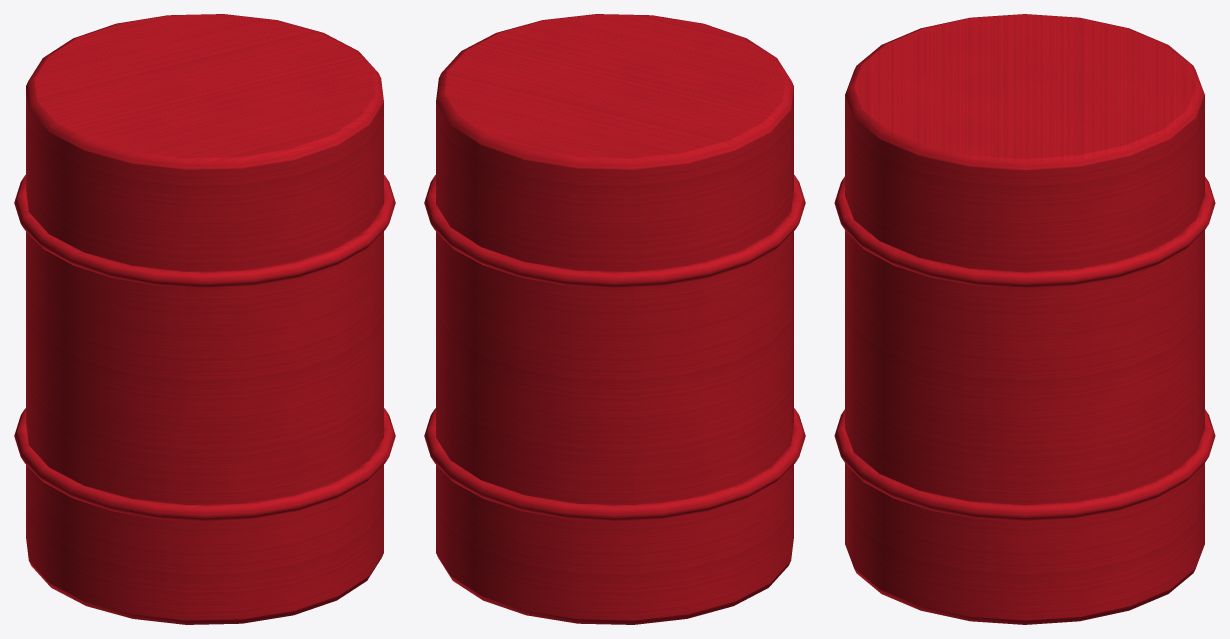
Rendered from env_barrel.glb.
The picture shows the model from 3 angles, left to right: view 1: azimuth 30°, elevation 25°; view 2: azimuth 150°, elevation 25°; view 3: azimuth 270°, elevation 25°; orthographic projection.
Parts seen in each view (by area): view 1: env_barrel; view 2: env_barrel; view 3: env_barrel.
Part boxes in pixels (x1,y1,x2,y2): env_barrel: (14,14,395,624); env_barrel: (424,14,805,624); env_barrel: (834,14,1215,624).
Size of the model in its own units: 0.89 by 1.2 by 0.89.
Materials: 1 (1 with a texture image).
